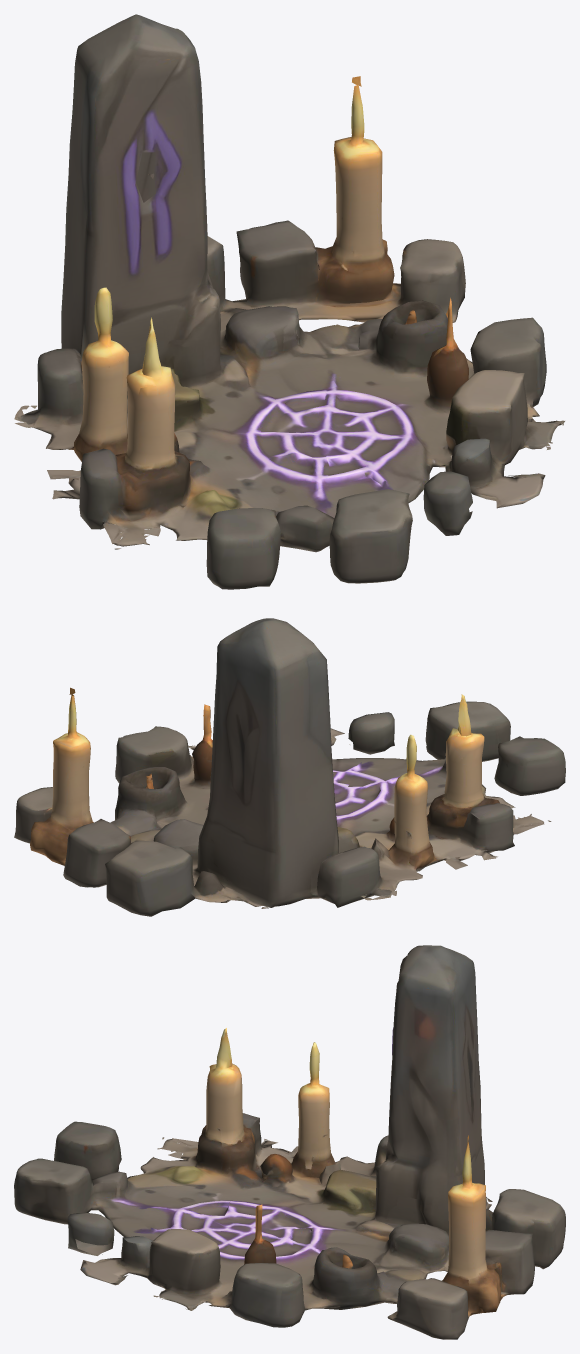
Rendered from SM_Prop_RitualCircle_02.fbx.
3 renders of one model, top to bottom at view 1: azimuth 30°, elevation 25°; view 2: azimuth 150°, elevation 25°; view 3: azimuth 270°, elevation 25°, orthographic. The views are drawn at different scales.
Parts seen in each view (by area): view 1: SM_Prop_RitualCircle_02; view 2: SM_Prop_RitualCircle_02; view 3: SM_Prop_RitualCircle_02.
Boxes of the visible parts, x1,y1,x2,y2 form: SM_Prop_RitualCircle_02: [14, 14, 564, 589]; SM_Prop_RitualCircle_02: [14, 618, 565, 916]; SM_Prop_RitualCircle_02: [14, 945, 565, 1339].
Bounding box in the file's own units: 0.8422 × 0.5461 × 0.994.
Materials: 1 (1 with a texture image).
